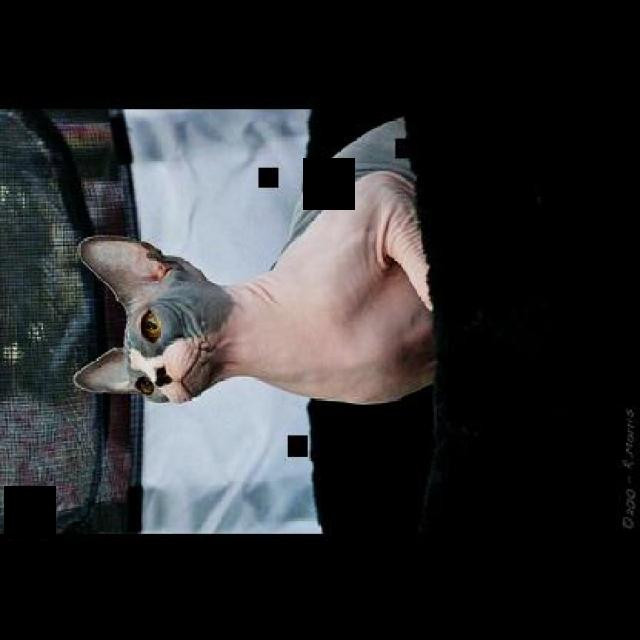unauthorized: (71, 232, 238, 405)
